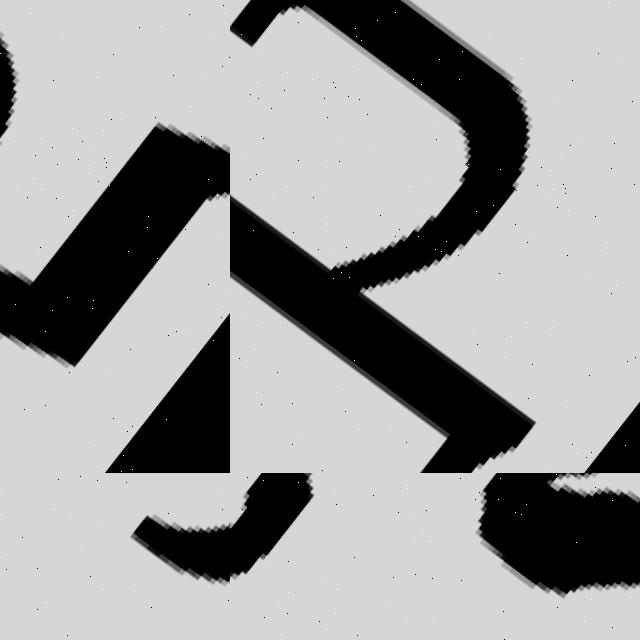2: (0, 473, 230, 640)
5: (0, 0, 230, 473)
G: (230, 473, 640, 640)
H: (230, 0, 543, 473)
